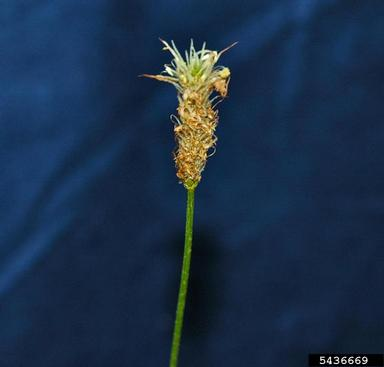buckhorn plantain: (147, 34, 232, 273)
